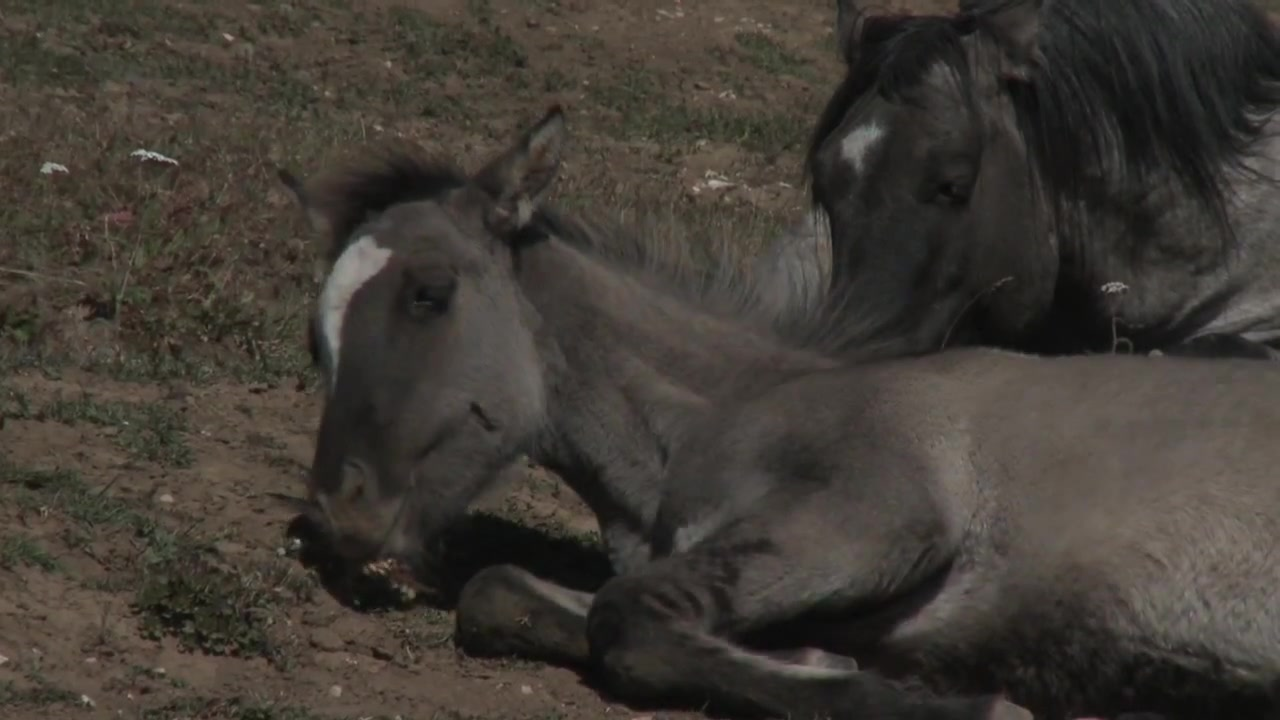horse: (257, 101, 1280, 720), (804, 1, 1280, 367)
